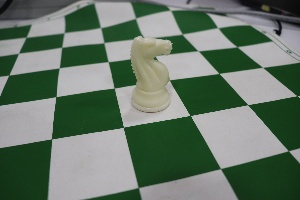white_horse: (125, 26, 178, 117)
